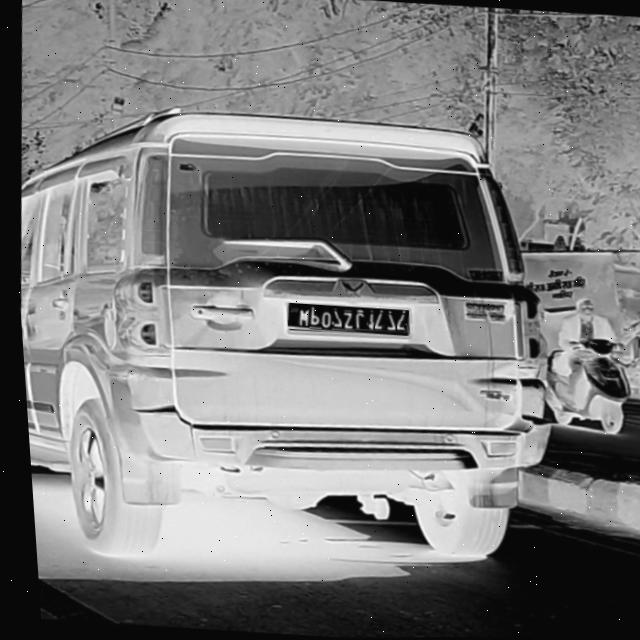0: (316, 310, 328, 330)
1: (361, 312, 370, 330)
7: (391, 312, 404, 332), (369, 312, 381, 331), (381, 313, 393, 332), (327, 309, 338, 329)
IND: (283, 307, 295, 322)
Indian_registered: (283, 303, 404, 334)
J: (349, 312, 361, 330)
M: (293, 308, 306, 327)
P: (304, 309, 316, 327)
Z: (337, 311, 350, 330)
